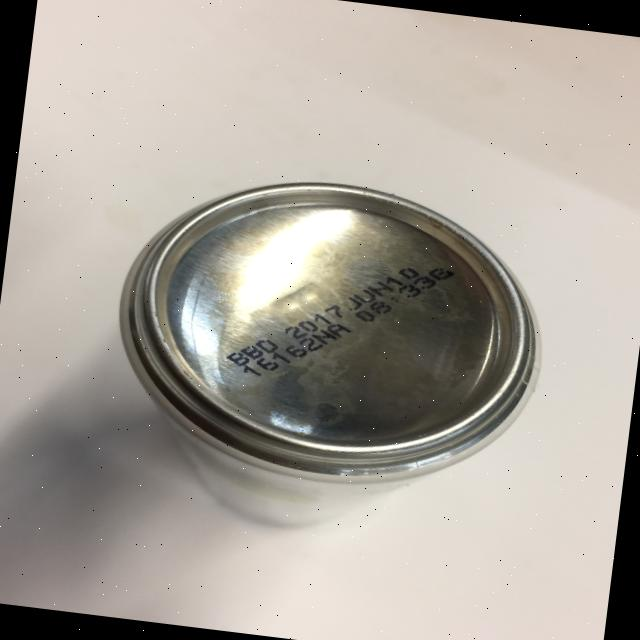metal: (99, 156, 559, 508)
